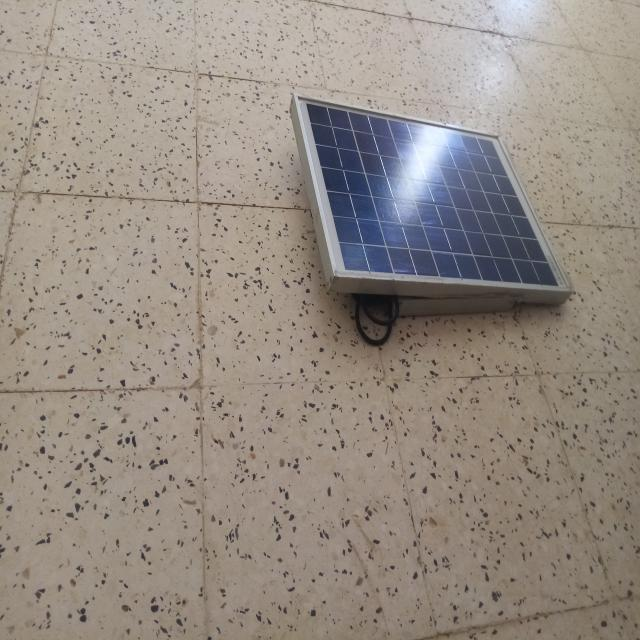no faulty: (293, 94, 573, 292)
